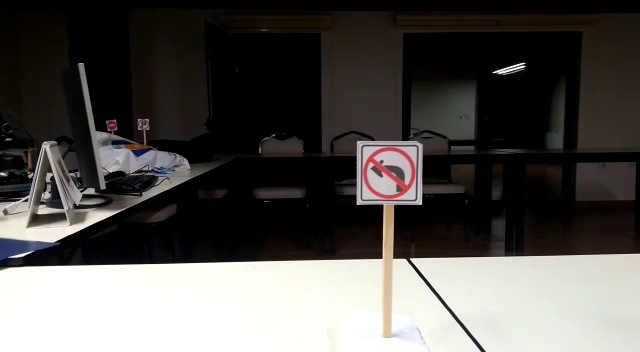sola_donulmez: (361, 145, 421, 202)
